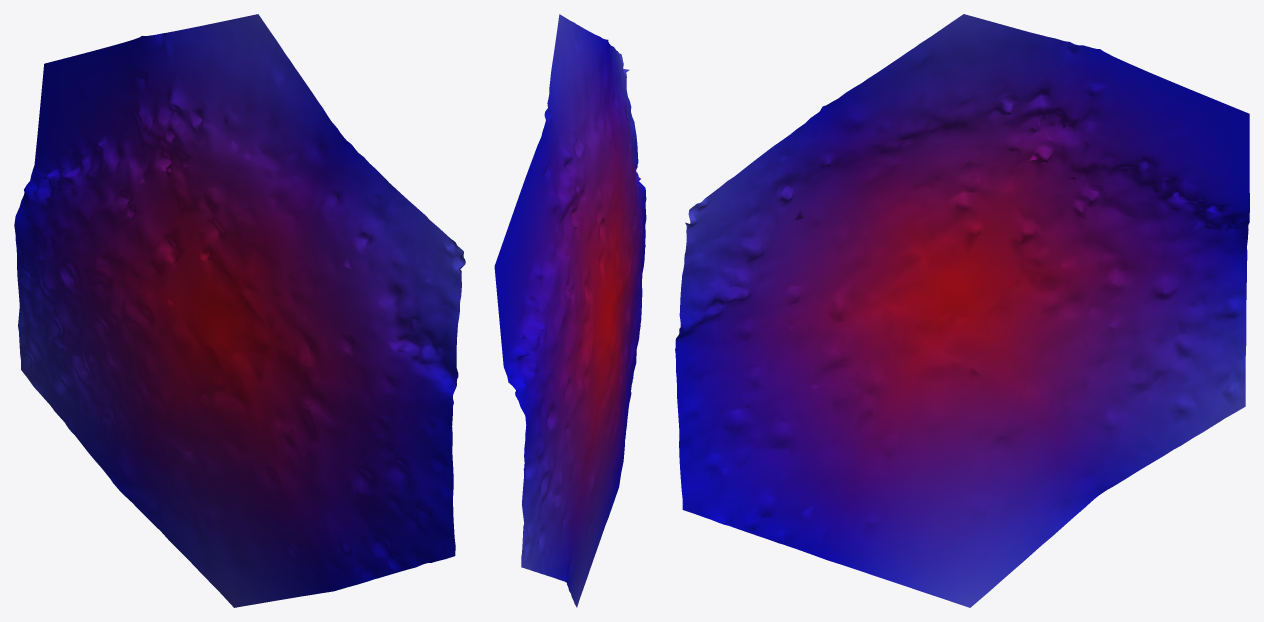
File: Hex_14.fbx
3 renders of one model, left to right at view 1: azimuth 30°, elevation 25°; view 2: azimuth 150°, elevation 25°; view 3: azimuth 270°, elevation 25°, orthographic. The views are drawn at different scales.
Visible parts, largest first — view 1: Hex_14; view 2: Hex_14; view 3: Hex_14.
Part boxes in pixels (x1,y1,x2,y2): Hex_14: (14, 14, 465, 607); Hex_14: (494, 14, 646, 607); Hex_14: (675, 14, 1249, 607).
Bounding box in the file's own units: 160 × 506 × 436.
